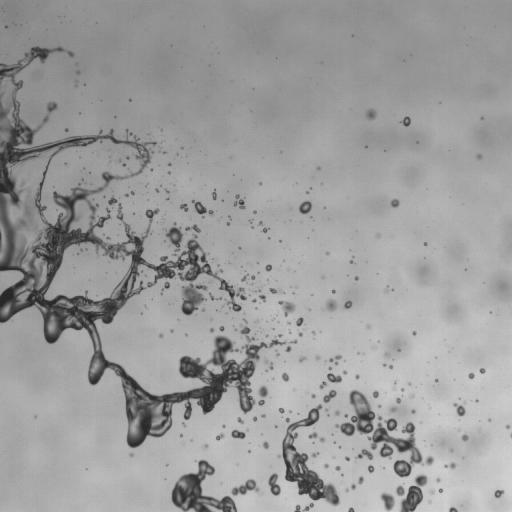droplet: (171, 459, 237, 511), (396, 475, 427, 511), (380, 492, 394, 511), (279, 300, 295, 316), (234, 194, 245, 209), (356, 449, 372, 459), (299, 201, 311, 214), (325, 299, 337, 311), (454, 403, 465, 416), (231, 429, 245, 438), (329, 355, 341, 364), (366, 109, 376, 119), (402, 116, 410, 126), (108, 197, 117, 205), (390, 199, 399, 207), (296, 317, 304, 326), (180, 203, 188, 211), (494, 490, 503, 497), (445, 462, 455, 468), (282, 373, 289, 381), (216, 433, 224, 440), (163, 281, 169, 290), (241, 274, 248, 281), (344, 301, 351, 308), (461, 434, 468, 441), (372, 390, 378, 398), (265, 264, 271, 271), (259, 294, 265, 301), (368, 465, 374, 472), (358, 476, 363, 484), (390, 406, 396, 412), (237, 417, 243, 423), (449, 507, 458, 511), (268, 362, 273, 369), (212, 191, 216, 199), (262, 227, 268, 232), (299, 356, 305, 361), (479, 368, 485, 373), (468, 373, 474, 378), (263, 442, 268, 448), (312, 452, 318, 457), (348, 507, 354, 511), (477, 154, 481, 159), (250, 275, 255, 279), (384, 353, 389, 357), (355, 374, 359, 379), (396, 398, 400, 403), (279, 408, 284, 412), (335, 410, 339, 415), (335, 466, 340, 470), (351, 484, 355, 489), (258, 221, 262, 225), (385, 286, 389, 290), (219, 326, 223, 330), (209, 328, 213, 332), (412, 331, 416, 335), (298, 332, 302, 336), (389, 365, 393, 369), (342, 370, 346, 374), (311, 394, 315, 398), (253, 417, 257, 421), (345, 456, 349, 460), (324, 464, 328, 468), (436, 478, 440, 482), (431, 489, 434, 494), (165, 189, 168, 193), (355, 276, 358, 280), (252, 299, 256, 302), (159, 333, 162, 337), (410, 395, 414, 398), (412, 409, 415, 413), (204, 444, 208, 447), (439, 488, 442, 492), (155, 189, 158, 192), (131, 191, 134, 194), (312, 331, 315, 334), (316, 356, 319, 359), (344, 414, 347, 417), (182, 423, 185, 426), (506, 425, 509, 428), (123, 163, 125, 166), (253, 211, 256, 213), (227, 222, 229, 225), (350, 260, 352, 263), (332, 290, 335, 292), (218, 297, 221, 299), (202, 308, 204, 311), (244, 319, 246, 322), (255, 320, 258, 322), (367, 325, 369, 328), (383, 363, 385, 366), (328, 367, 331, 369), (262, 414, 264, 417), (222, 425, 225, 427), (338, 446, 341, 448), (450, 449, 453, 451), (130, 453, 132, 456), (345, 489, 348, 491), (77, 71, 79, 73), (65, 129, 67, 131), (126, 156, 128, 158), (119, 159, 121, 161), (317, 167, 319, 169), (306, 191, 308, 193), (125, 194, 127, 196), (249, 220, 251, 222), (107, 237, 109, 239), (257, 289, 259, 291), (265, 360, 267, 362), (435, 379, 437, 381), (378, 405, 380, 407)
ligament: (0, 54, 296, 447), (334, 390, 433, 477), (277, 404, 340, 506), (231, 479, 259, 495), (319, 373, 341, 388), (192, 201, 213, 216), (268, 473, 280, 495), (258, 385, 268, 405), (308, 432, 324, 442), (323, 390, 336, 402), (294, 503, 313, 511), (270, 288, 283, 293), (209, 293, 216, 300), (510, 433, 511, 437)
